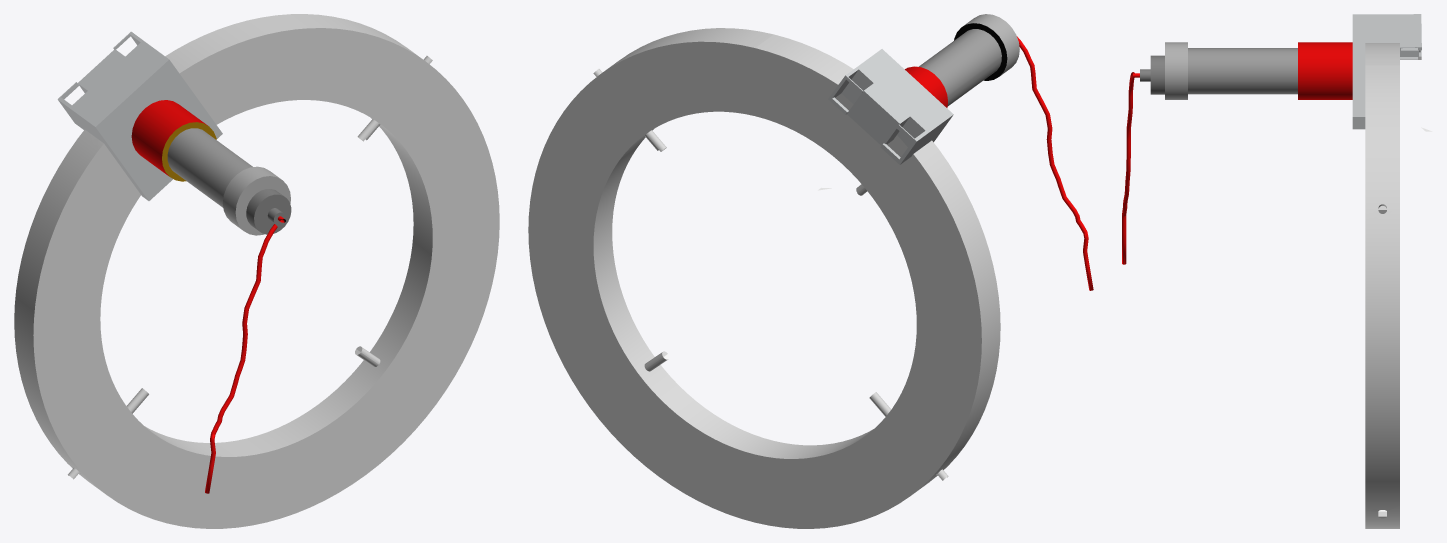
Rendered from PipeApparatus.fbx.
3 renders of one model, left to right at view 1: azimuth 30°, elevation 25°; view 2: azimuth 150°, elevation 25°; view 3: azimuth 270°, elevation 25°, orthographic. The views are drawn at different scales.
Visible parts, largest first — view 1: PipeApparatus; view 2: PipeApparatus; view 3: PipeApparatus.
Part boxes in pixels (x1,y1,x2,y2): PipeApparatus: [14, 14, 499, 528]; PipeApparatus: [528, 14, 1093, 528]; PipeApparatus: [1122, 14, 1432, 528].
Size of the model in its own units: 168 by 170 by 107.
